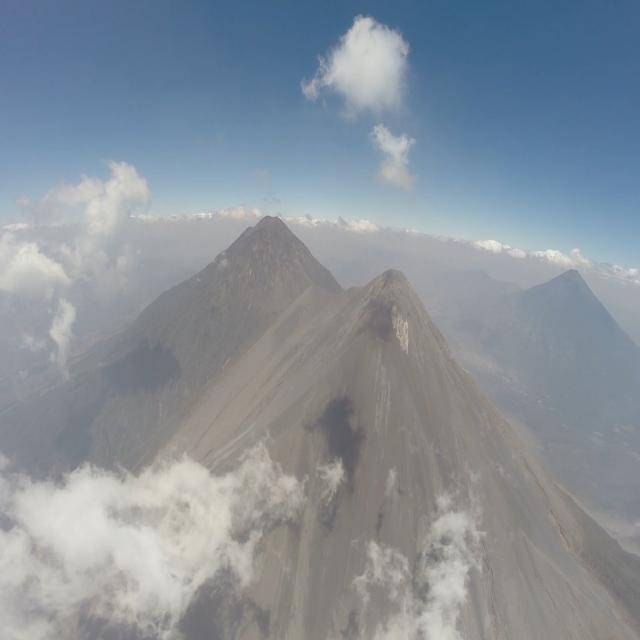Summit: (340, 262, 446, 359)
